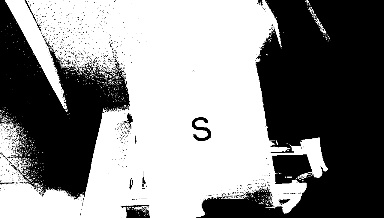S: (186, 113, 215, 143)
